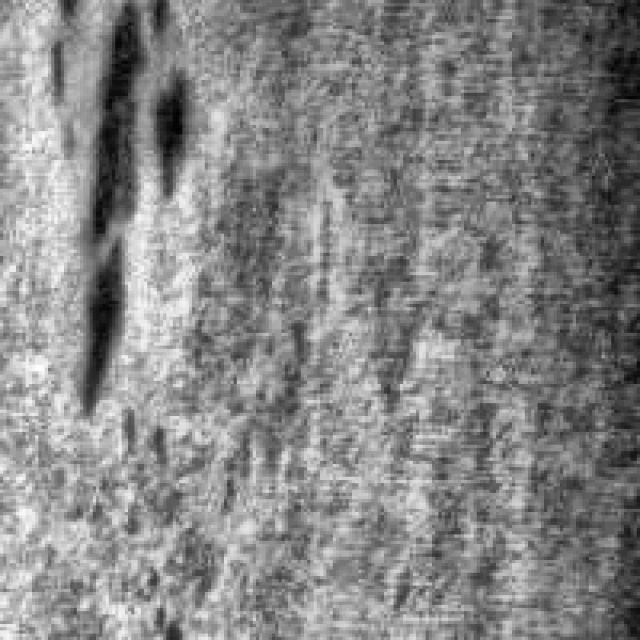Patches: (44, 0, 164, 307), (60, 221, 134, 422), (140, 70, 196, 208)
